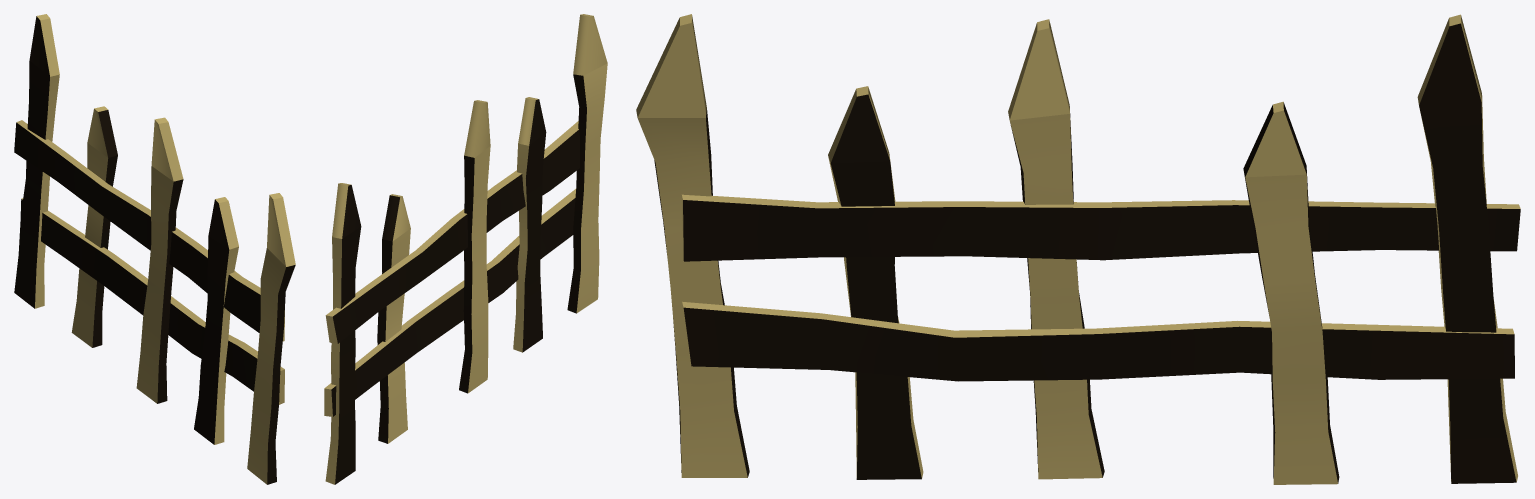
Rendered from fence5.fbx.
3 views of the same model, side by side, from view 1: azimuth 30°, elevation 25°; view 2: azimuth 150°, elevation 25°; view 3: azimuth 270°, elevation 25° (orthographic). The views are drawn at different scales.
Parts seen in each view (by area): view 1: fence5_LOD0; view 2: fence5_LOD0; view 3: fence5_LOD0.
Boxes of the visible parts, box(x1,y1,x2,y2) form: fence5_LOD0: box(14, 14, 295, 484); fence5_LOD0: box(324, 14, 607, 484); fence5_LOD0: box(636, 14, 1520, 484).
Size of what is drawn, in the model's own units: 29.67 by 317 by 545.
